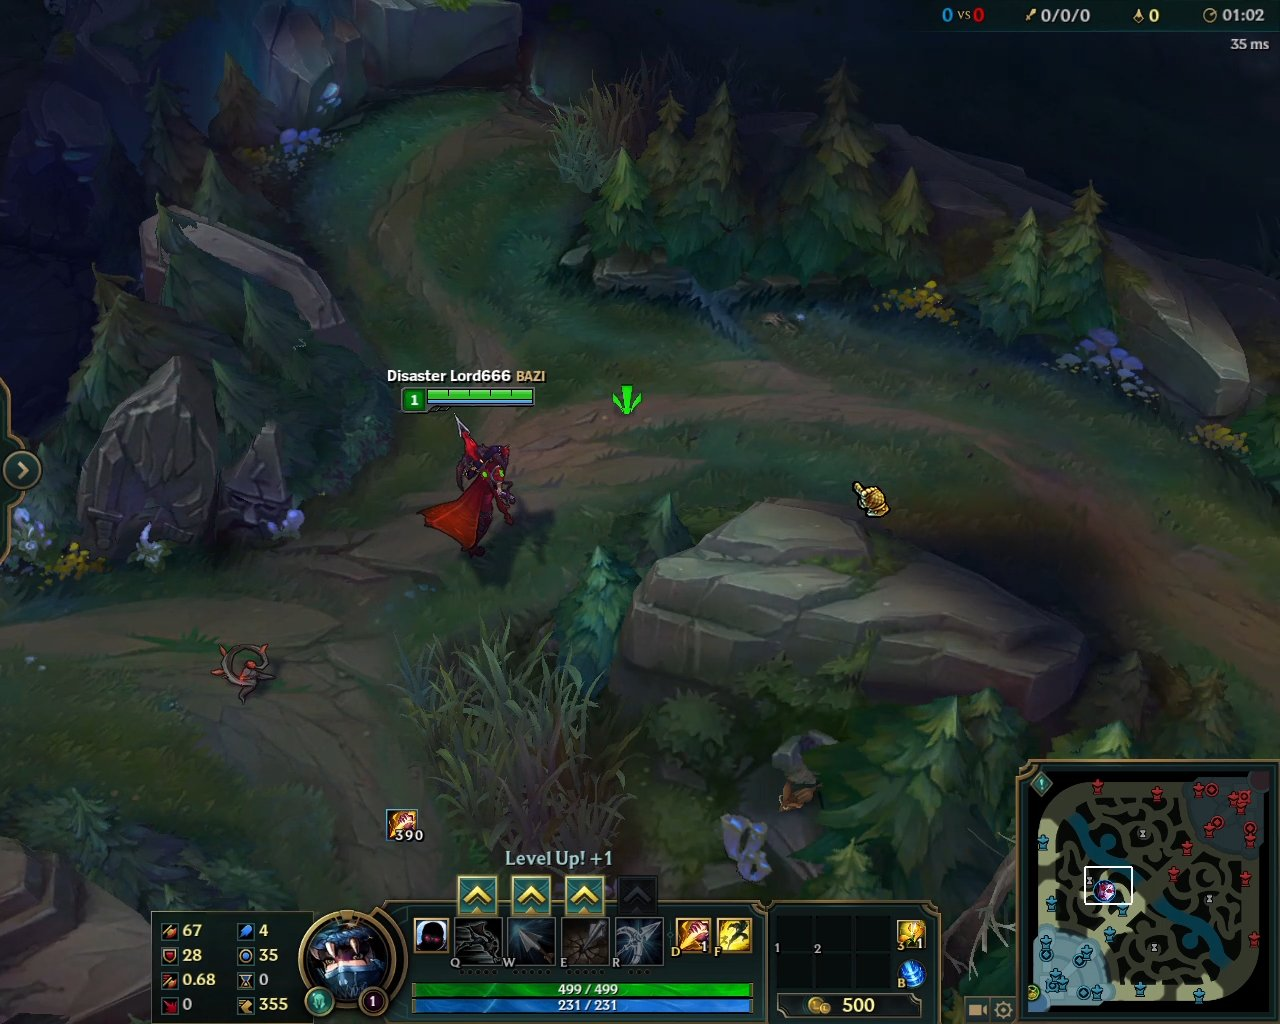Vayne: (415, 408, 526, 563)
